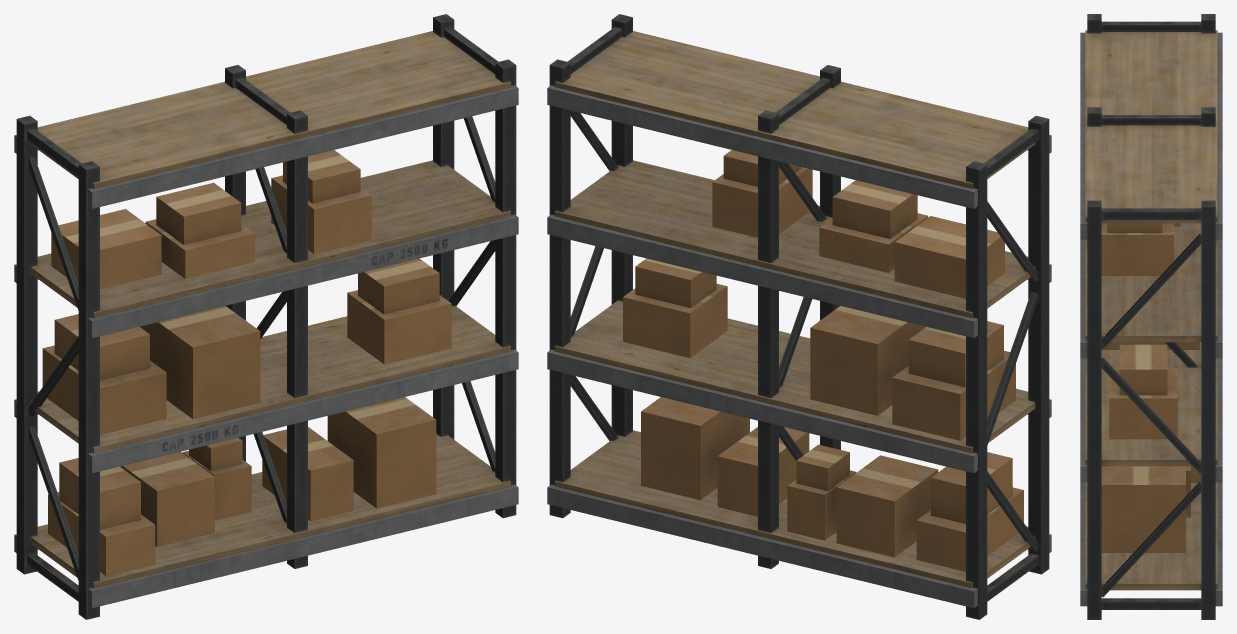
Rendered from W2_ShelfRack.fbx.
3 renders of one model, left to right at view 1: azimuth 30°, elevation 25°; view 2: azimuth 150°, elevation 25°; view 3: azimuth 270°, elevation 25°, orthographic. The views are drawn at different scales.
Parts seen in each view (by area): view 1: W2_ShelfRack__W2_ShelfRack, W2_ShelfRack__W2_ShelfRack_Load; view 2: W2_ShelfRack__W2_ShelfRack, W2_ShelfRack__W2_ShelfRack_Load; view 3: W2_ShelfRack__W2_ShelfRack, W2_ShelfRack__W2_ShelfRack_Load.
Part boxes in pixels (<box>): W2_ShelfRack__W2_ShelfRack: <box>14,14,518,619</box>; W2_ShelfRack__W2_ShelfRack_Load: <box>42,150,451,576</box>; W2_ShelfRack__W2_ShelfRack: <box>547,14,1051,619</box>; W2_ShelfRack__W2_ShelfRack_Load: <box>623,150,1023,571</box>; W2_ShelfRack__W2_ShelfRack: <box>1080,14,1222,619</box>; W2_ShelfRack__W2_ShelfRack_Load: <box>1101,223,1201,552</box>.
Bounding box in the file's own units: 800 × 800 × 250.
1 material, 1 textured.
